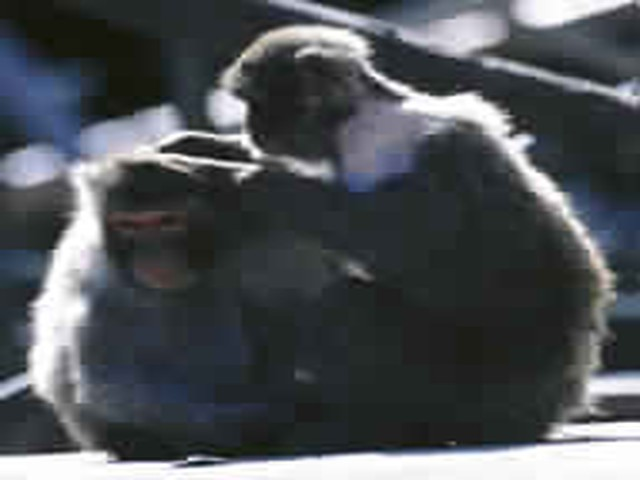Monkey: (24, 23, 620, 459)
